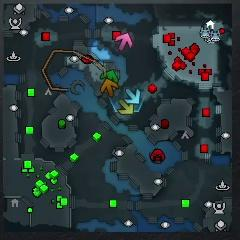x1: (116, 33, 132, 51)
x2: (118, 99, 134, 115)
x3: (125, 88, 142, 105)
x4: (100, 69, 119, 83)
x5: (100, 79, 119, 98)
